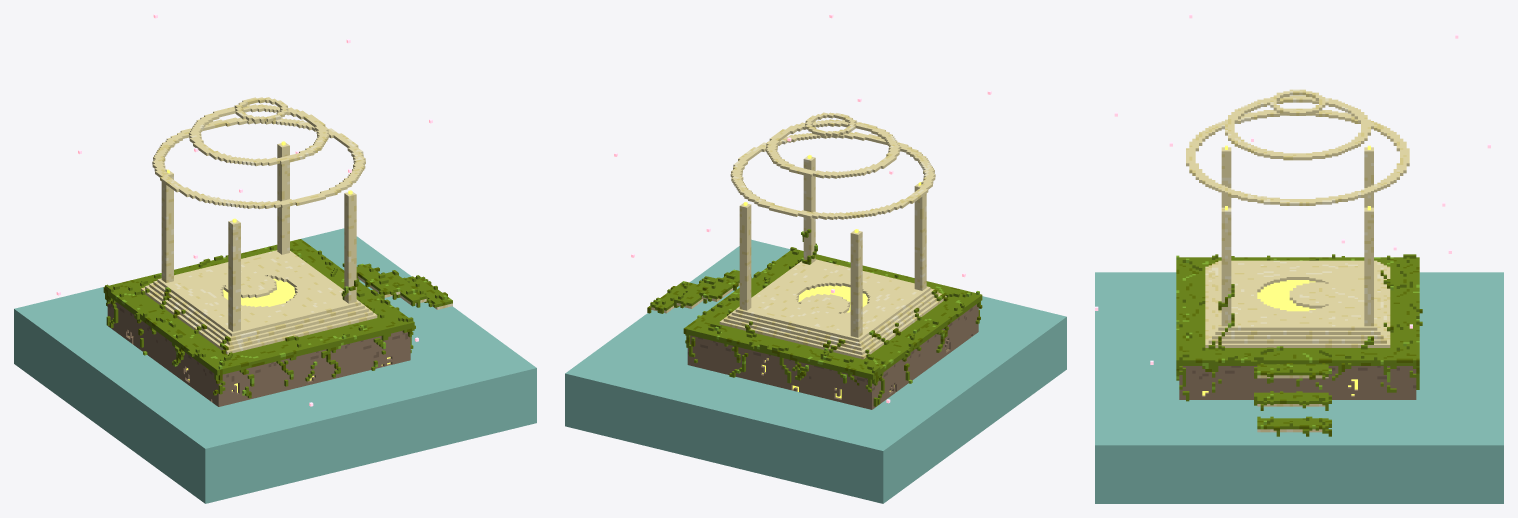
Rendered from moon_portal.glb.
The picture shows the model from 3 angles, left to right: view 1: azimuth 30°, elevation 25°; view 2: azimuth 150°, elevation 25°; view 3: azimuth 270°, elevation 25°; orthographic projection. The views are drawn at different scales.
Visible parts, largest first — view 1: Object_2; view 2: Object_2; view 3: Object_2.
Part boxes in pixels (x1,y1,x2,y2): Object_2: [14, 14, 536, 503]; Object_2: [565, 14, 1066, 503]; Object_2: [1095, 14, 1503, 503].
Size of the model in its own units: 8.13 by 7.87 by 8.13.
1 material, 1 textured.
